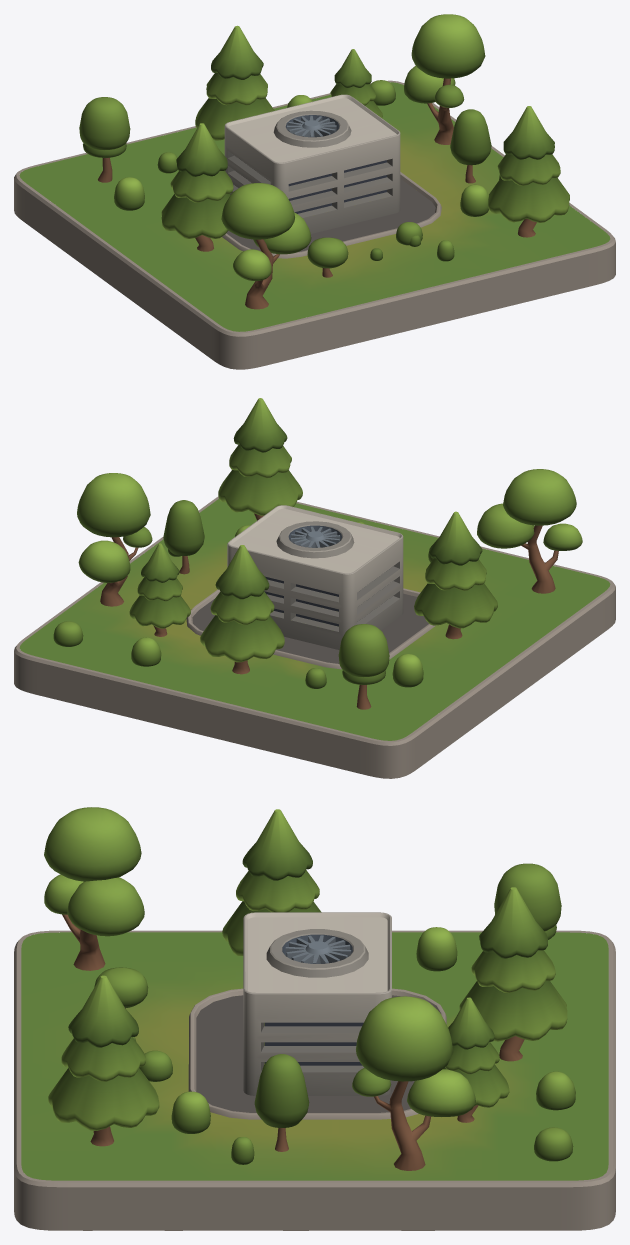
File: stage-400-simple.glb
3 views of the same model, one above another, from view 1: azimuth 30°, elevation 25°; view 2: azimuth 150°, elevation 25°; view 3: azimuth 270°, elevation 25° (orthographic). The views are drawn at different scales.
Parts seen in each view (by area): view 1: stage-400-simple.001, stage-400-simple, fan_s-400-001; view 2: stage-400-simple.001, stage-400-simple, fan_s-400-001; view 3: stage-400-simple.001, stage-400-simple, fan_s-400-001.
Boxes of the visible parts, bbox=[...] form: stage-400-simple.001: bbox=[14, 14, 615, 369]; stage-400-simple: bbox=[19, 82, 610, 331]; fan_s-400-001: bbox=[287, 115, 336, 137]; stage-400-simple.001: bbox=[14, 398, 615, 778]; stage-400-simple: bbox=[19, 499, 610, 740]; fan_s-400-001: bbox=[290, 526, 340, 547]; stage-400-simple.001: bbox=[14, 807, 615, 1230]; stage-400-simple: bbox=[21, 932, 608, 1180]; fan_s-400-001: bbox=[285, 935, 351, 963].
Size of the model in its own units: 11.66 by 4.54 by 11.6.
8 materials, 2 textured.
